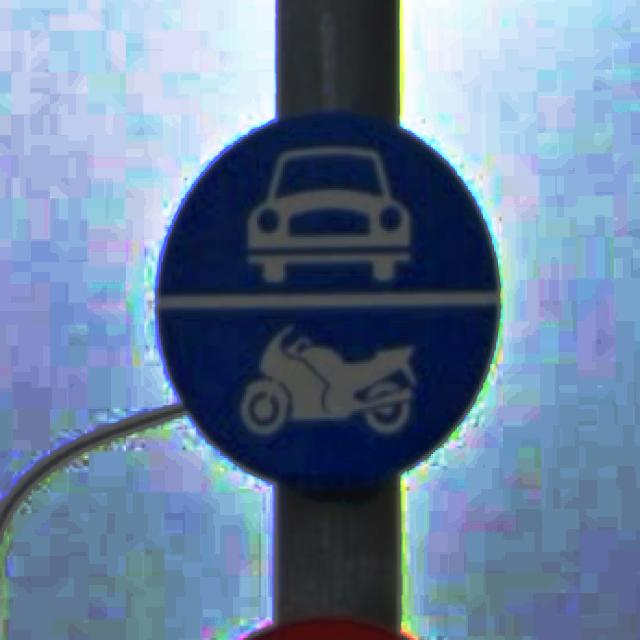carmotorcycle: (154, 106, 501, 491)
